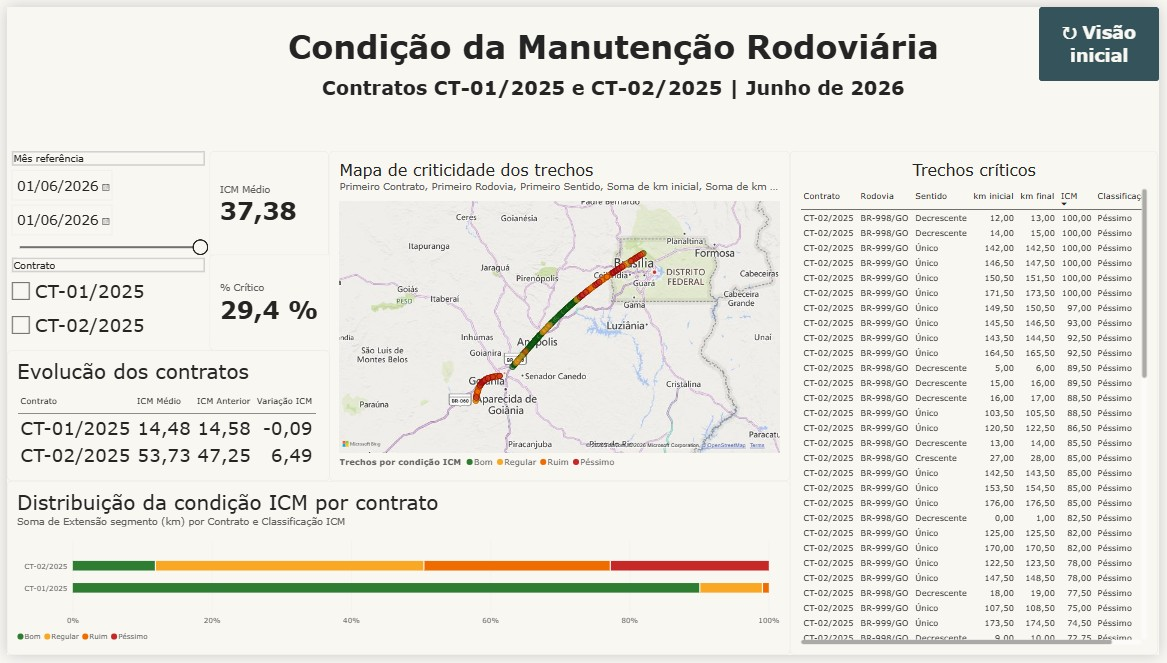

The page's visual inventory and layout, read from the dashboard file:
{"tool":"powerbi","page":{"name":"Página 1","canvas":[1920,1080],"ordinal":0},"visuals":[{"type":"cardVisual","fields":{"Data":["fLevantamentos.ICM Médio"]},"box":[338.2,239.5,200,177.8],"z":0},{"type":"slicer","fields":{"Values":["fLevantamentos.Mês referência"]},"box":[0,239.5,338.2,177.8],"z":1000},{"type":"slicer","fields":{"Values":["fLevantamentos.Contrato"]},"box":[0,417.3,338.2,155.5],"z":2000},{"type":"cardVisual","fields":{"Data":["fLevantamentos.% Crítico"]},"box":[338.2,412.3,212.3,160.5],"z":3000},{"type":"hundredPercentStackedBarChart","title":"Distribuição da condição ICM por contrato","fields":{"Category":["fLevantamentos.Contrato"],"Series":["fLevantamentos.Classificação ICM"],"Y":["Sum(fLevantamentos.Extensão segmento (km))"]},"box":[0,790,1305,290],"z":4000},{"type":"tableEx","title":"Evolucão dos contratos","fields":{"Values":["fLevantamentos.Contrato","fLevantamentos.ICM Médio","fLevantamentos.ICM Anterior","fLevantamentos.Variação ICM"]},"box":[0,572.8,538.2,217.3],"z":5000},{"type":"map","title":"Mapa de criticidade dos trechos","fields":{"Series":["fLevantamentos.Classificação ICM"],"X":["fLevantamentos.Longitude"],"Y":["fLevantamentos.Latitude"]},"box":[537.5,240,767.5,550],"z":6000},{"type":"tableEx","title":"Trechos críticos","fields":{"Values":["fLevantamentos.Contrato","fLevantamentos.Rodovia","fLevantamentos.Sentido","fLevantamentos.km inicial","fLevantamentos.km final","fLevantamentos.ICM","fLevantamentos.Classificação ICM"]},"box":[1305,240,612.5,840],"z":7000},{"type":"actionButton","title":"↻ Visão inicial","box":[1720.9,0,200,123.4],"z":8000},{"type":"textbox","box":[444,0,1131.4,204.8],"z":9000}]}

Visuals, with their boxes in screenshot pixels (x1, y1, x2, y2), scaled from the page's 1920x1080 canvas onto the 1167x663 screenshot:
cardVisual - fLevantamentos.ICM Médio: <region>206, 147, 327, 256</region>
slicer - fLevantamentos.Mês referência: <region>0, 147, 206, 256</region>
slicer - fLevantamentos.Contrato: <region>0, 256, 206, 352</region>
cardVisual - fLevantamentos.% Crítico: <region>206, 253, 335, 352</region>
"Distribuição da condição ICM por contrato" hundredPercentStackedBarChart: <region>0, 485, 793, 662</region>
"Evolucão dos contratos" tableEx: <region>0, 352, 327, 485</region>
"Mapa de criticidade dos trechos" map: <region>327, 147, 793, 485</region>
"Trechos críticos" tableEx: <region>793, 147, 1165, 662</region>
"↻ Visão inicial" actionButton: <region>1046, 0, 1166, 76</region>
textbox: <region>270, 0, 958, 126</region>
